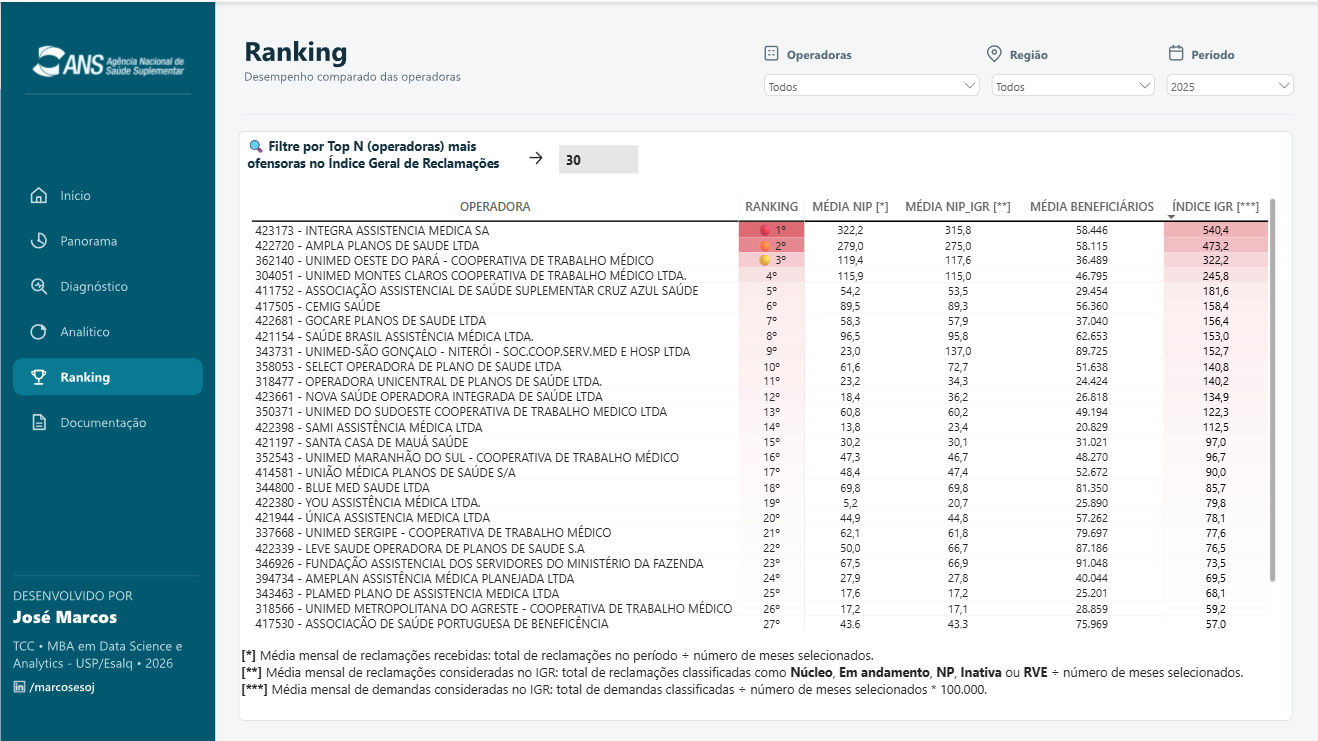

Layout of this report page (visuals, bound fields, positions):
{"tool":"powerbi","page":{"name":"Ranking","canvas":[1920,1080],"ordinal":4},"visuals":[{"type":"pivotTable","title":"Análise de reclamações detalhadas por motivos","fields":{"Rows":["fDados.Operadora"],"Values":["Medidas.Ranking Operadoras (rótulo)","Medidas.MediaNIPs","Medidas.qtdMediaReclamacaoIGR","Medidas.qtdBeneficiariosMedio","Medidas.Índice IGR"]},"box":[348,270.7,1520,656],"z":0},{"type":"textbox","box":[349.3,936,1519.3,109],"z":1000},{"type":"slicer","fields":{"Values":["Top N.Top N"]},"box":[804,202.7,165.3,50.7],"z":2000},{"type":"textbox","box":[358.7,196,390.7,74.7],"z":3000},{"type":"actionButton","box":[730.7,208,93.3,38.7],"z":4000},{"type":"slicer","fields":{"Values":["fDados.Operadora"]},"box":[1104,100,322.7,49.3],"z":5000},{"type":"slicer","fields":{"Values":["dCalendario.AnoAtual","dCalendario.MesAbre"]},"box":[1690,100,194.4,49.1],"z":6000},{"type":"slicer","fields":{"Values":["dIBGE.name_region"]},"box":[1435.8,100,246.4,49.6],"z":7000},{"type":"actionButton","box":[18.6,254.3,271.4,54.3],"z":8000},{"type":"actionButton","box":[18.6,320,271.4,54.3],"z":9000},{"type":"actionButton","box":[18.6,392.9,271.4,54.3],"z":10000},{"type":"actionButton","box":[18.6,457.1,271.4,54.3],"z":11000},{"type":"actionButton","box":[18.6,524.3,271.4,54.3],"z":12000},{"type":"actionButton","box":[18.6,585.7,271.4,54.3],"z":13000},{"type":"actionButton","box":[0,979.4,178.1,29.1],"z":13001}]}

Visuals, with their boxes on the page's 1920x1080 design canvas (x1, y1, x2, y2). These are canvas units, not pixel positions in the 1318x741 screenshot, which may show the page scaled, cropped or inside an application window:
"Análise de reclamações detalhadas por motivos" pivotTable: x1=348, y1=271, x2=1868, y2=927
textbox: x1=349, y1=936, x2=1869, y2=1045
slicer - Top N.Top N: x1=804, y1=203, x2=969, y2=253
textbox: x1=359, y1=196, x2=749, y2=271
actionButton: x1=731, y1=208, x2=824, y2=247
slicer - fDados.Operadora: x1=1104, y1=100, x2=1427, y2=149
slicer - dCalendario.AnoAtual x dCalendario.MesAbre: x1=1690, y1=100, x2=1884, y2=149
slicer - dIBGE.name_region: x1=1436, y1=100, x2=1682, y2=150
actionButton: x1=19, y1=254, x2=290, y2=309
actionButton: x1=19, y1=320, x2=290, y2=374
actionButton: x1=19, y1=393, x2=290, y2=447
actionButton: x1=19, y1=457, x2=290, y2=511
actionButton: x1=19, y1=524, x2=290, y2=579
actionButton: x1=19, y1=586, x2=290, y2=640
actionButton: x1=0, y1=979, x2=178, y2=1008
